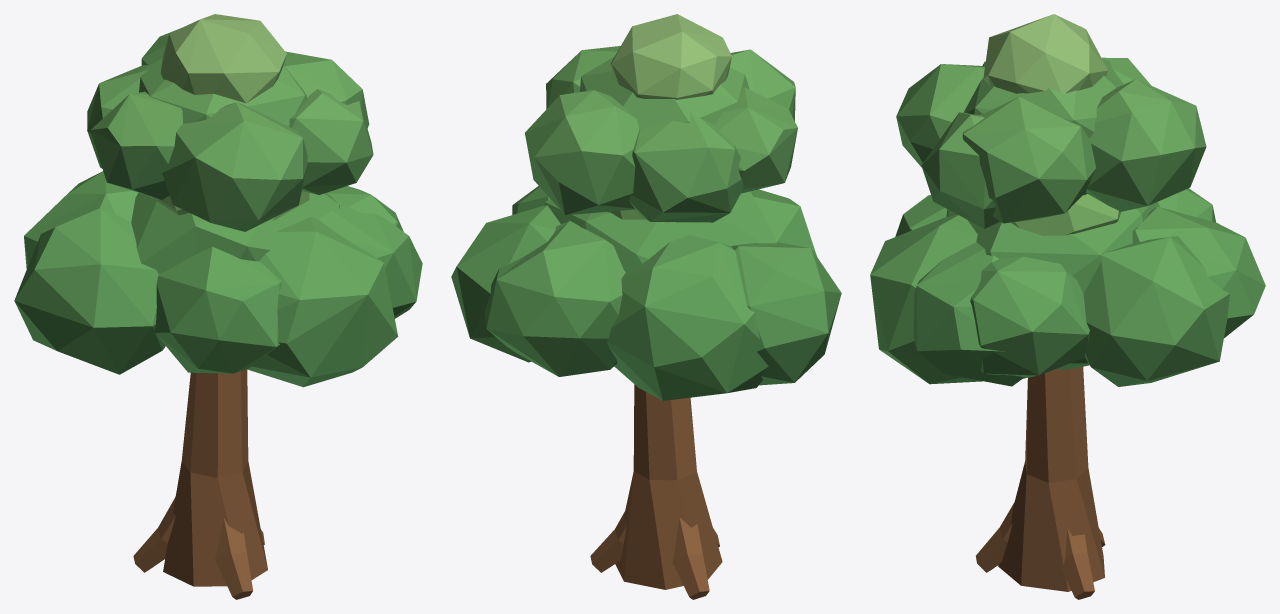
Rendered from giant_round_canopy.fbx.
3 renders of one model, left to right at view 1: azimuth 30°, elevation 25°; view 2: azimuth 150°, elevation 25°; view 3: azimuth 270°, elevation 25°, orthographic. The views are drawn at different scales.
Parts seen in each view (by area): view 1: giant_round_canopy; view 2: giant_round_canopy; view 3: giant_round_canopy.
Boxes of the visible parts, x1,y1,x2,y2 form: giant_round_canopy: (14, 14, 422, 599); giant_round_canopy: (451, 14, 841, 599); giant_round_canopy: (870, 14, 1265, 599).
Size of the model in its own units: 52.85 by 80.09 by 51.82.
